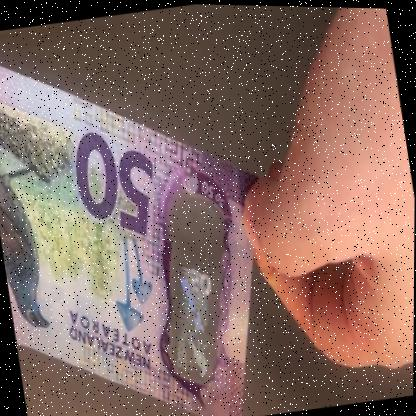50B: (152, 199, 242, 385)
